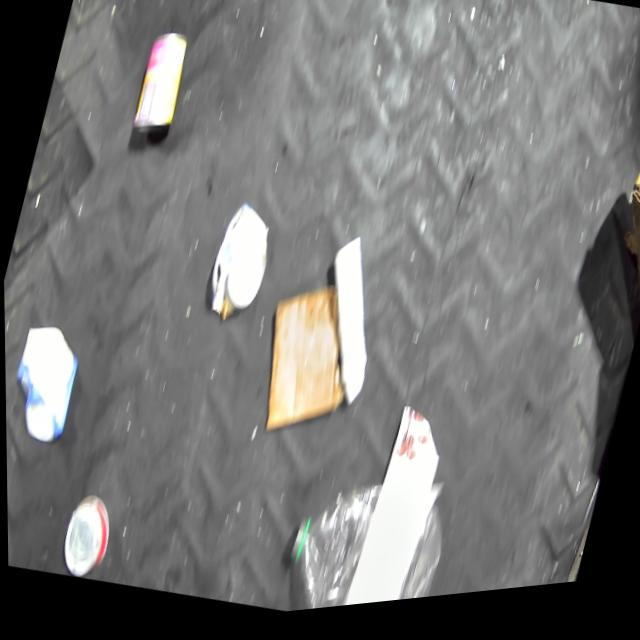can: (122, 24, 196, 159), (47, 485, 122, 587)
plastic_bottle: (273, 460, 458, 618)
